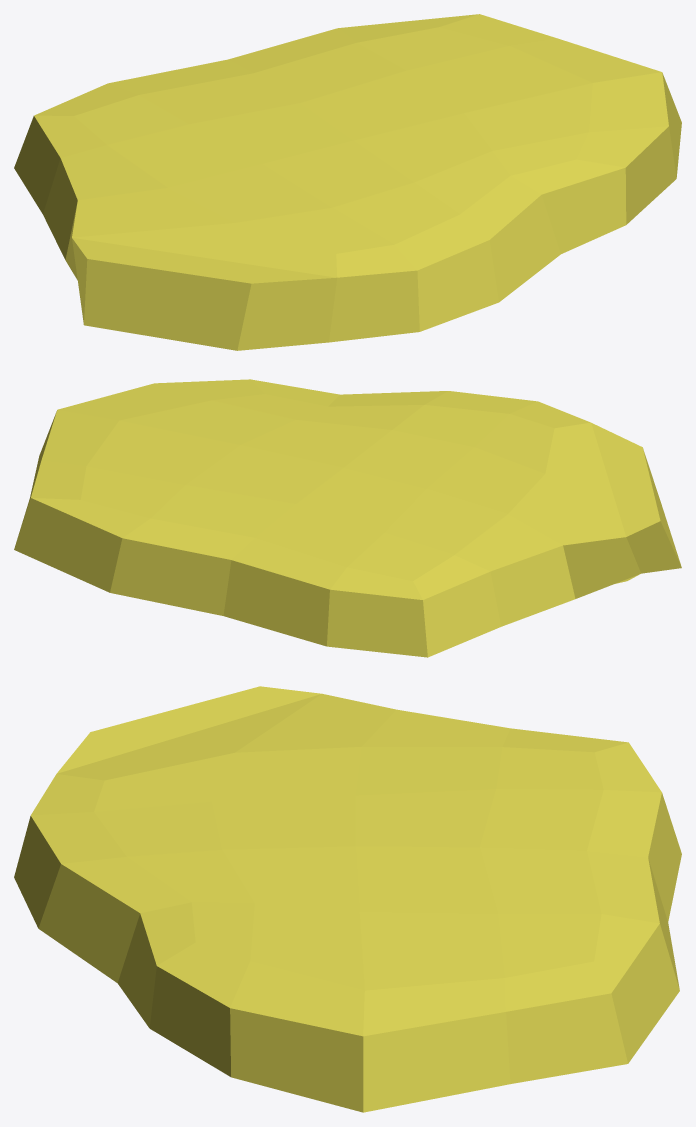
File: dropoff.fbx
3 views of the same model, one above another, from view 1: azimuth 30°, elevation 25°; view 2: azimuth 150°, elevation 25°; view 3: azimuth 270°, elevation 25° (orthographic). The views are drawn at different scales.
Visible parts, largest first — view 1: barn.001; view 2: barn.001; view 3: barn.001.
Part boxes in pixels (<box>): barn.001: <box>14,14,681,350</box>; barn.001: <box>14,379,681,657</box>; barn.001: <box>14,686,681,1112</box>.
Size of the model in its own units: 1354 by 138 by 1024.
